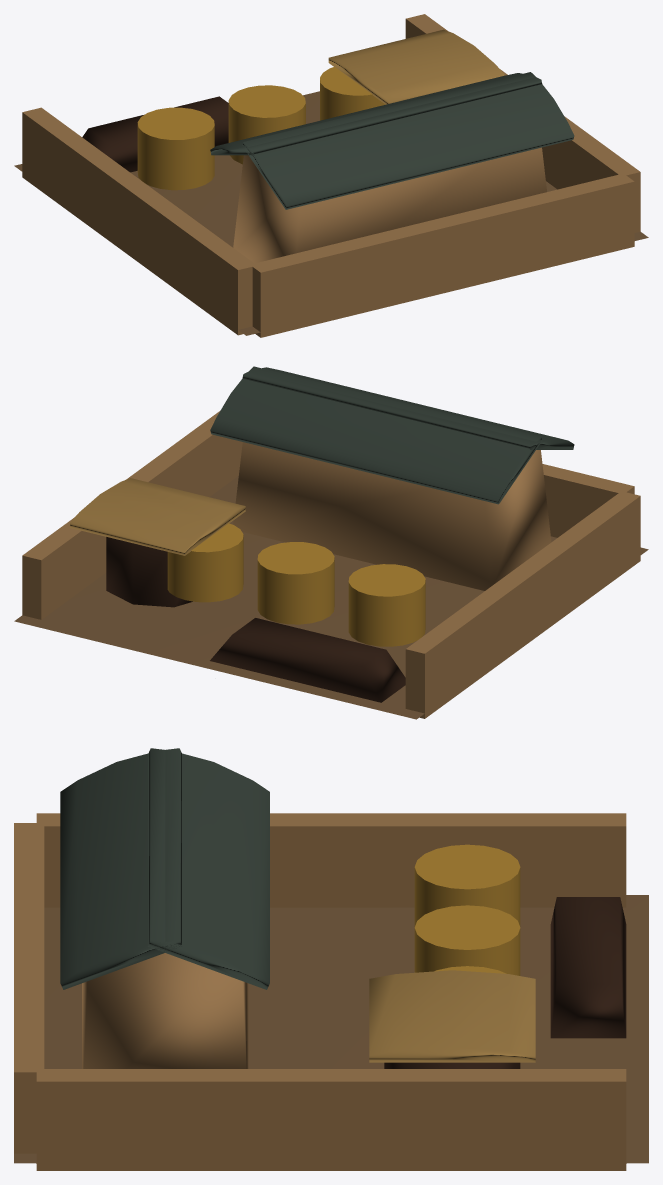
The model's file is R29_HAN_STORAGE_WAREHOUSE_PRODUCTION_A.fbx.
The picture shows the model from 3 angles, top to bottom: view 1: azimuth 30°, elevation 25°; view 2: azimuth 150°, elevation 25°; view 3: azimuth 270°, elevation 25°; orthographic projection. The views are drawn at different scales.
Parts seen in each view (by area): view 1: wall_north, store_roof_back, wall_east, store_body, shed_roof, granary_east, wall_west, yard, store_roof_front, granary_center, loading_platform, granary_west; view 2: store_body, store_roof_front, wall_east, yard, wall_west, loading_platform, shed_roof, granary_east, granary_center, granary_west, store_roof_back, shed_body (+1 smaller); view 3: wall_west, yard, wall_east, store_roof_front, store_roof_back, store_body, shed_roof, loading_platform, wall_north, granary_east, granary_center, shed_body.
Part boxes in pixels (<box>): wall_north: <box>252,174,634,337</box>; store_roof_back: <box>242,72,574,209</box>; wall_east: <box>22,107,256,335</box>; store_body: <box>233,147,546,263</box>; shed_roof: <box>328,29,504,104</box>; granary_east: <box>137,107,214,190</box>; wall_west: <box>405,14,640,232</box>; yard: <box>14,91,648,335</box>; store_roof_front: <box>210,73,542,155</box>; granary_center: <box>228,85,305,164</box>; loading_platform: <box>82,96,228,172</box>; granary_west: <box>320,67,385,120</box>; store_body: <box>233,442,551,590</box>; store_roof_front: <box>210,366,541,504</box>; wall_east: <box>405,491,640,718</box>; yard: <box>14,476,648,719</box>; wall_west: <box>22,411,242,619</box>; loading_platform: <box>210,618,405,702</box>; shed_roof: <box>70,478,245,555</box>; granary_east: <box>348,564,425,646</box>; granary_center: <box>257,542,334,624</box>; granary_west: <box>167,523,243,602</box>; store_roof_back: <box>242,367,574,449</box>; shed_body: <box>106,537,192,607</box>; wall_west: <box>36,1069,626,1170</box>; yard: <box>14,895,648,1163</box>; wall_east: <box>36,813,626,907</box>; store_roof_front: <box>148,748,269,989</box>; store_roof_back: <box>60,748,181,989</box>; store_body: <box>82,953,248,1068</box>; shed_roof: <box>369,970,535,1062</box>; loading_platform: <box>550,897,626,1038</box>; wall_north: <box>14,823,44,1153</box>; granary_east: <box>414,844,520,926</box>; granary_center: <box>414,905,520,975</box>; shed_body: <box>384,1062,520,1068</box>.
Size of the model in its own units: 84 by 28.62 by 84.
